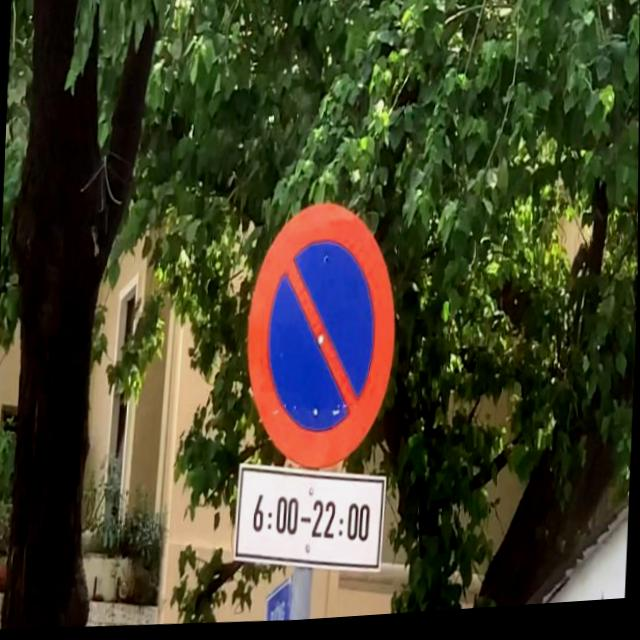Cam do xe: (241, 200, 402, 482)
